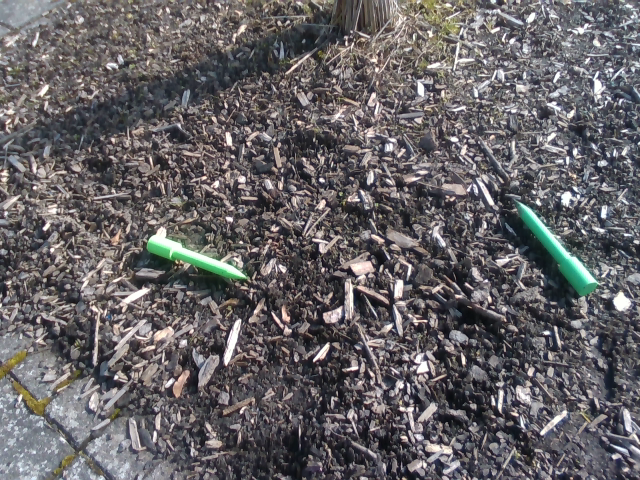Probe: (505, 188, 603, 304), (142, 225, 259, 287)
